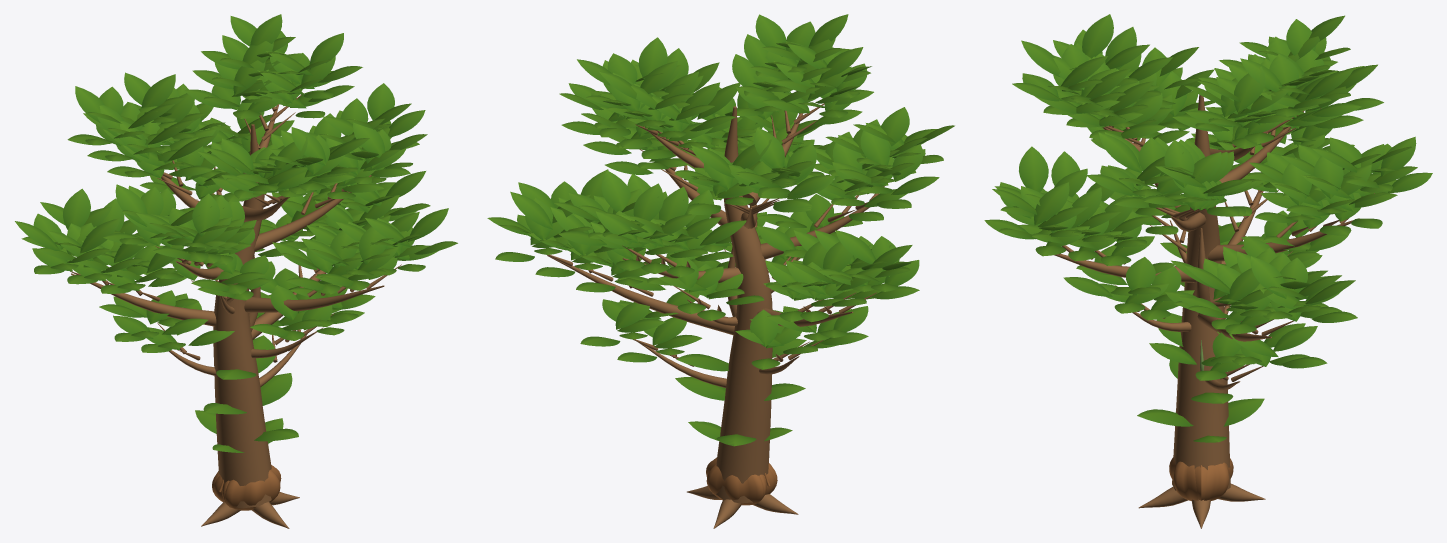
File: 生命樹生長階段.fbx
3 renders of one model, left to right at view 1: azimuth 30°, elevation 25°; view 2: azimuth 150°, elevation 25°; view 3: azimuth 270°, elevation 25°, orthographic. The views are drawn at different scales.
Parts seen in each view (by area): view 1: 嫩葉_4_0_0_0, 成長側枝_4_0, 嫩葉_3_0_0_0, 嫩葉_2_0, 生長細枝_4_0_0, 成長側枝_3_0, 種殼_生長階段_01_發芽_1; view 2: 嫩葉_4_0_0_0, 成長側枝_4_0, 嫩葉_3_0_0_0, 嫩葉_2_0, 生長細枝_4_0_0, 種殼_生長階段_01_發芽_0, 成長側枝_3_0, 嫩葉_1_0; view 3: 嫩葉_4_0_0_0, 成長側枝_4_0, 嫩葉_3_0_0_0, 嫩葉_2_0, 生長細枝_4_0_0, 成長側枝_3_0, 種殼_生長階段_01_發芽_1, 種殼_生長階段_01_發芽_0.
Boxes of the visible parts, left/top/right/bottom form: 嫩葉_4_0_0_0: left=15, top=14, right=457, bottom=294; 成長側枝_4_0: left=71, top=104, right=384, bottom=528; 嫩葉_3_0_0_0: left=99, top=223, right=375, bottom=352; 嫩葉_2_0: left=195, top=335, right=298, bottom=441; 生長細枝_4_0_0: left=70, top=93, right=401, bottom=301; 成長側枝_3_0: left=169, top=255, right=314, bottom=386; 種殼_生長階段_01_發芽_1: left=225, top=465, right=281, bottom=510; 嫩葉_4_0_0_0: left=487, top=14, right=954, bottom=322; 成長側枝_4_0: left=547, top=106, right=869, bottom=528; 嫩葉_3_0_0_0: left=580, top=193, right=868, bottom=369; 嫩葉_2_0: left=675, top=338, right=806, bottom=446; 生長細枝_4_0_0: left=548, top=90, right=884, bottom=314; 種殼_生長階段_01_發芽_0: left=706, top=458, right=763, bottom=505; 成長側枝_3_0: left=638, top=247, right=799, bottom=387; 嫩葉_1_0: left=688, top=421, right=792, bottom=441; 嫩葉_4_0_0_0: left=984, top=14, right=1432, bottom=334; 成長側枝_4_0: left=1054, top=95, right=1359, bottom=528; 嫩葉_3_0_0_0: left=1063, top=168, right=1348, bottom=380; 嫩葉_2_0: left=1137, top=313, right=1264, bottom=426; 生長細枝_4_0_0: left=1058, top=108, right=1374, bottom=335; 成長側枝_3_0: left=1132, top=220, right=1240, bottom=390; 種殼_生長階段_01_發芽_1: left=1169, top=457, right=1198, bottom=500; 種殼_生長階段_01_發芽_0: left=1204, top=458, right=1233, bottom=500.
Size of the model in its own units: 454 by 484 by 418.
